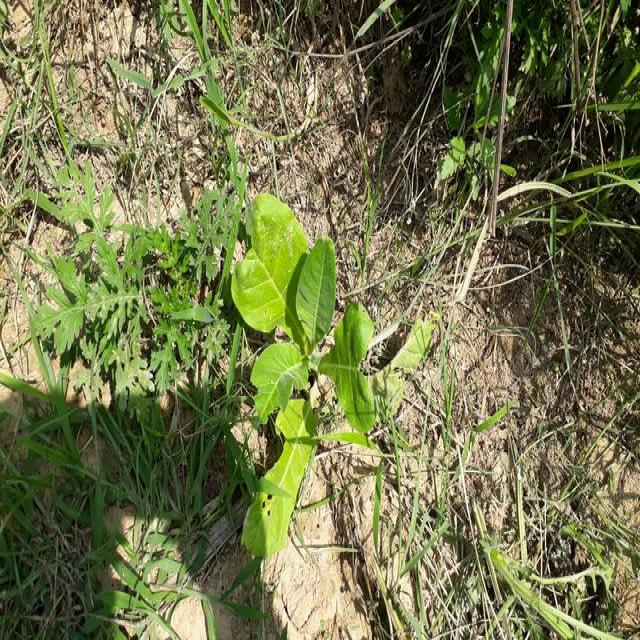crop: (237, 194, 378, 556)
